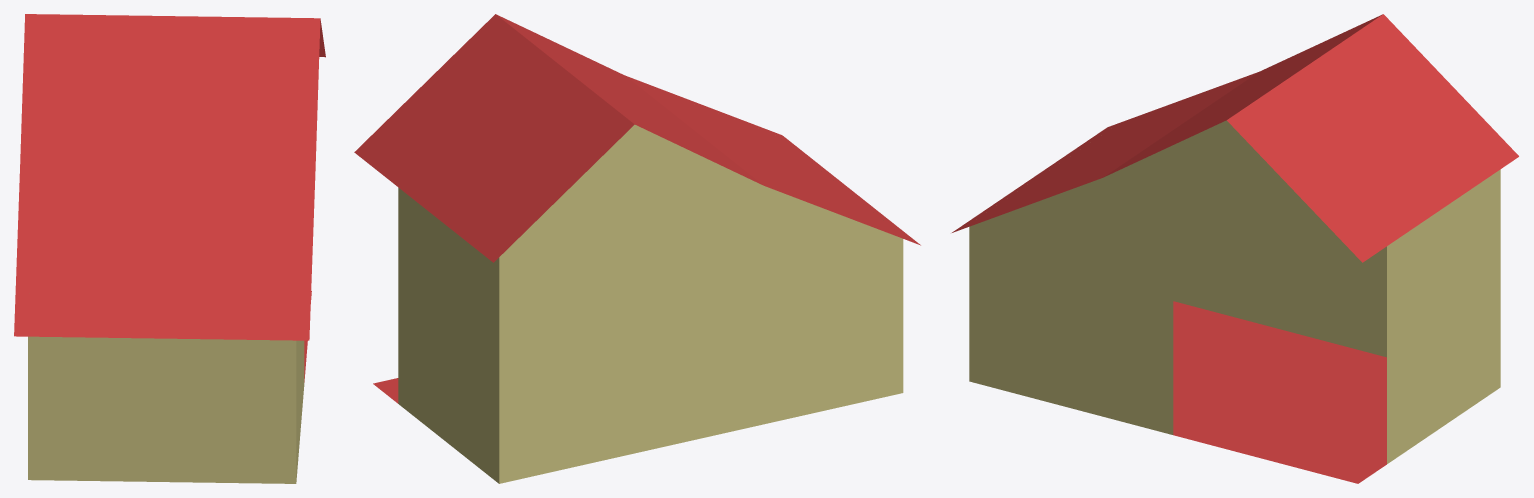
3 views of the same model, side by side, from view 1: azimuth 30°, elevation 25°; view 2: azimuth 150°, elevation 25°; view 3: azimuth 270°, elevation 25° (orthographic).
Size of the model in its own units: 18.63 by 20.84 by 13.57.
